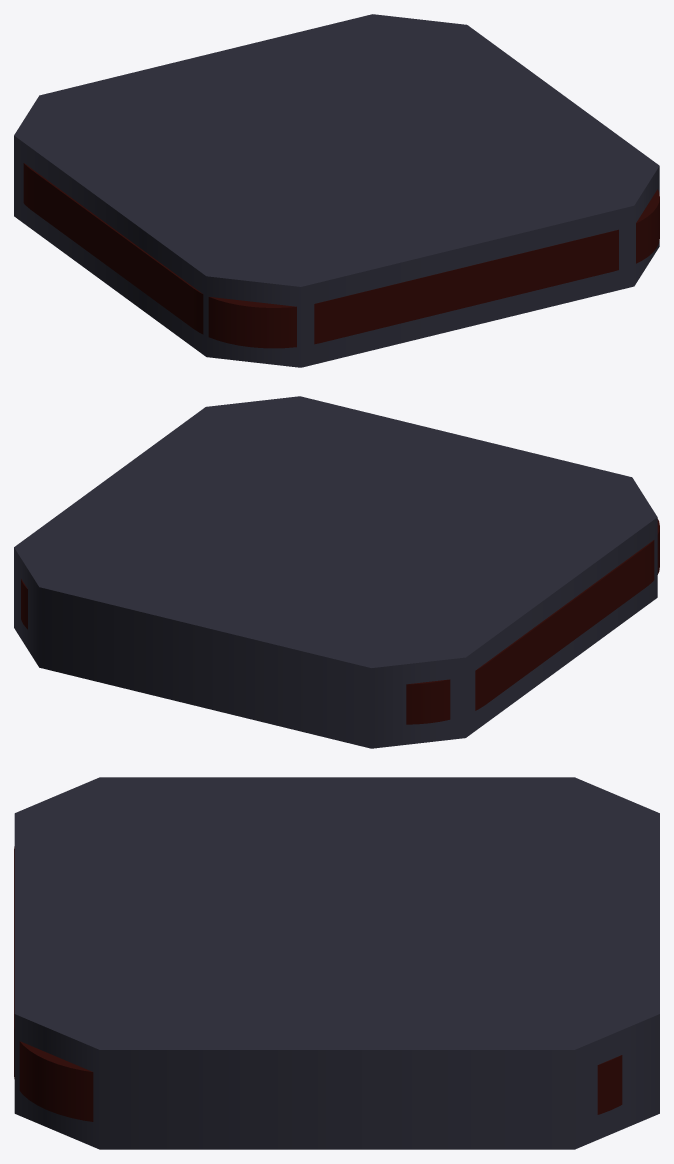
Rendered from illustrator.gltf.
3 views of the same model, one above another, from view 1: azimuth 30°, elevation 25°; view 2: azimuth 150°, elevation 25°; view 3: azimuth 270°, elevation 25° (orthographic). The views are drawn at different scales.
Visible parts, largest first — view 1: Cannon.009, Curve.023; view 2: Cannon.009, Curve.023; view 3: Cannon.009, Curve.023.
Part boxes in pixels (bbox=[...]): Cannon.009: bbox=[14, 14, 659, 367]; Curve.023: bbox=[23, 163, 659, 348]; Cannon.009: bbox=[14, 396, 657, 748]; Curve.023: bbox=[21, 519, 659, 724]; Cannon.009: bbox=[14, 777, 659, 1149]; Curve.023: bbox=[14, 846, 622, 1121].
Size of the model in its own units: 0.7065 by 0.12 by 0.7047.
